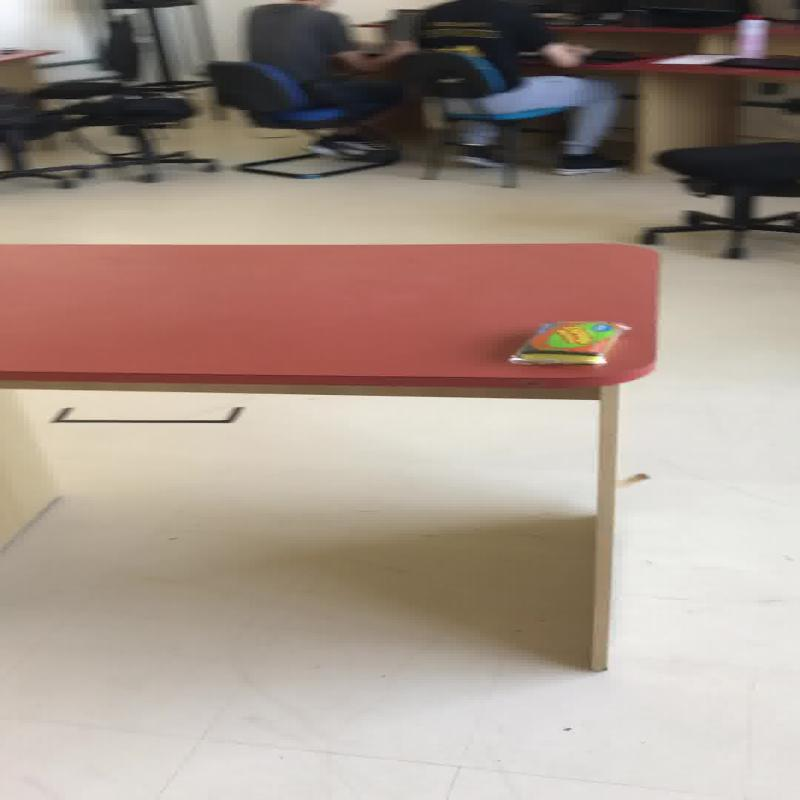sponge: (508, 319, 630, 365)
